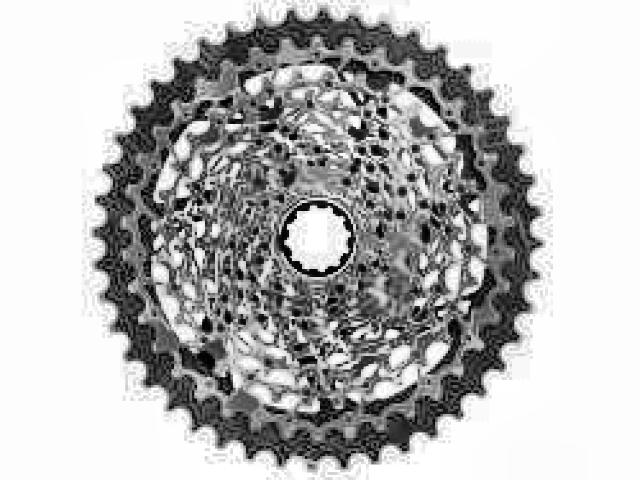cassette: (89, 3, 545, 472)
